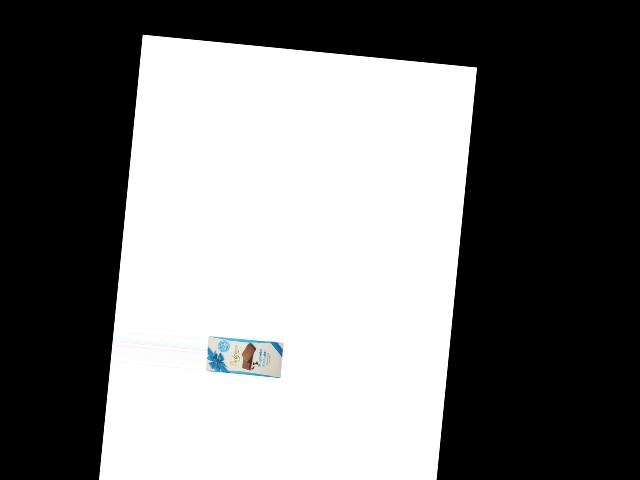chocolate: (204, 332, 286, 383)
